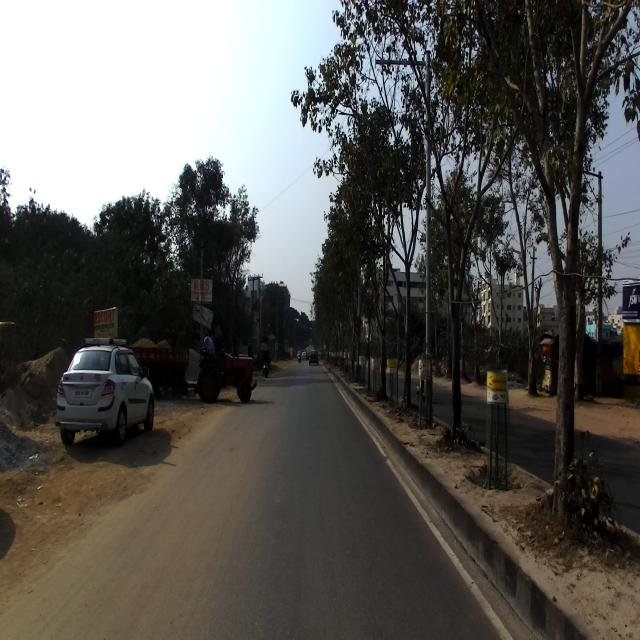car ahead at: (61, 332, 158, 462)
